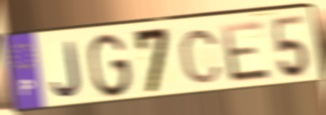5: (269, 13, 312, 81)
7: (132, 26, 172, 96)
C: (178, 28, 225, 86)
E: (219, 19, 274, 85)
G: (87, 32, 133, 100)
J: (50, 39, 84, 100)
